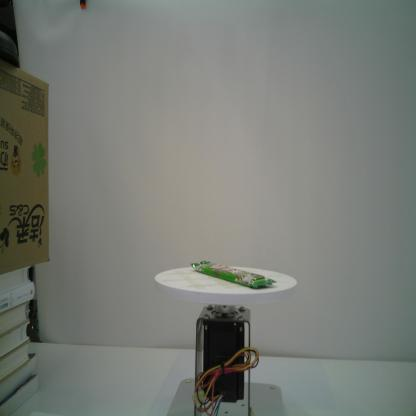Chocolate: (190, 260, 278, 290)
